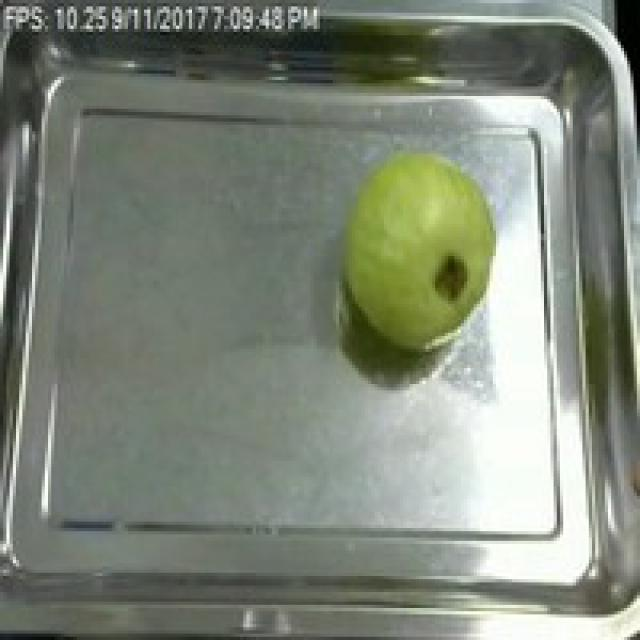Fruit: (330, 138, 512, 362)
